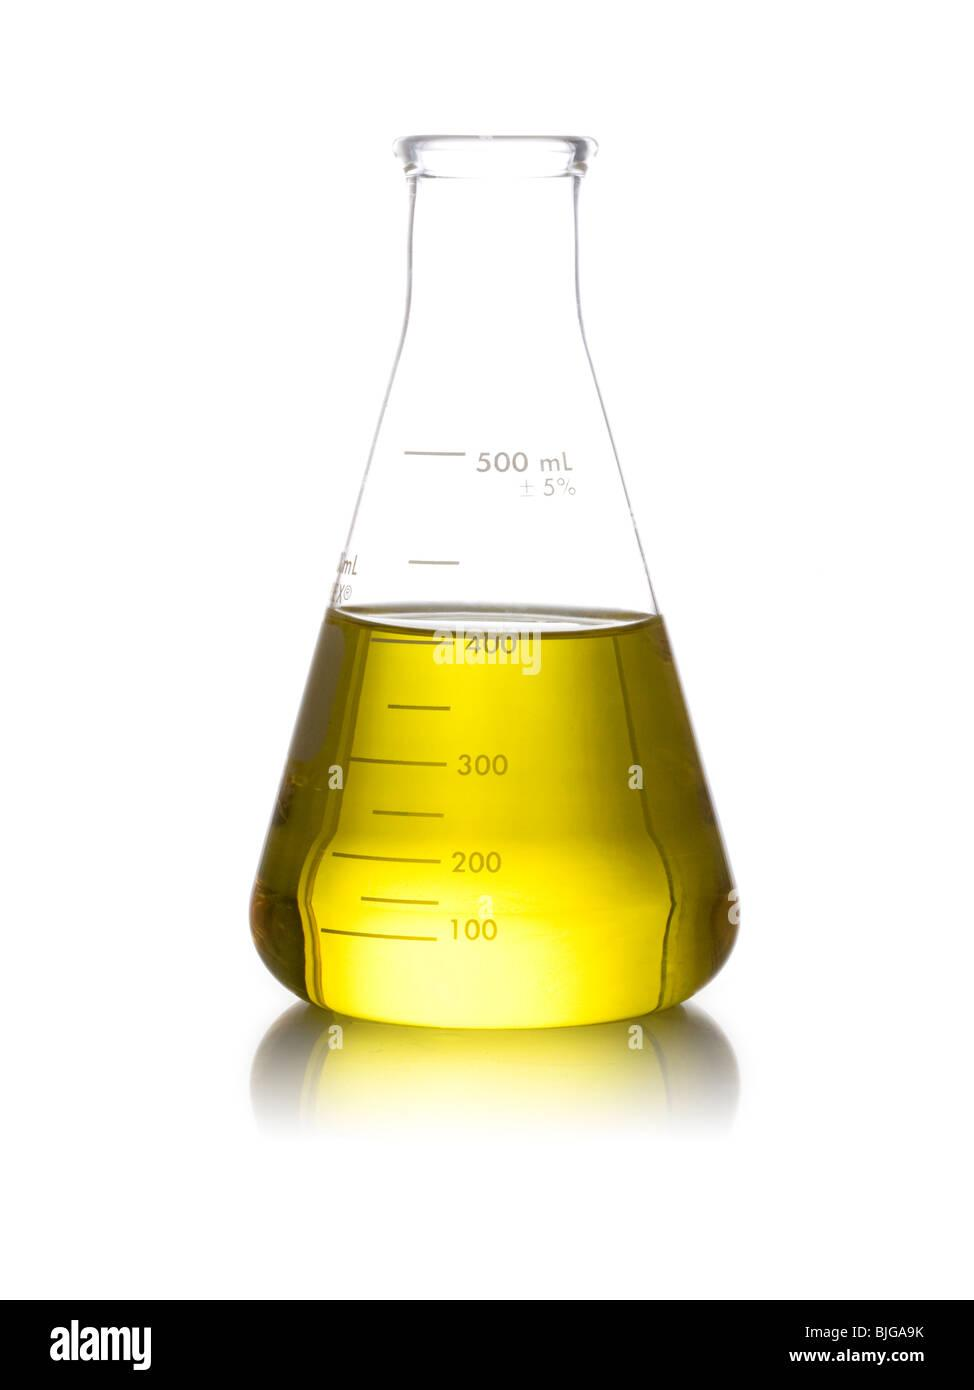Titrarion: (242, 104, 756, 1016)
